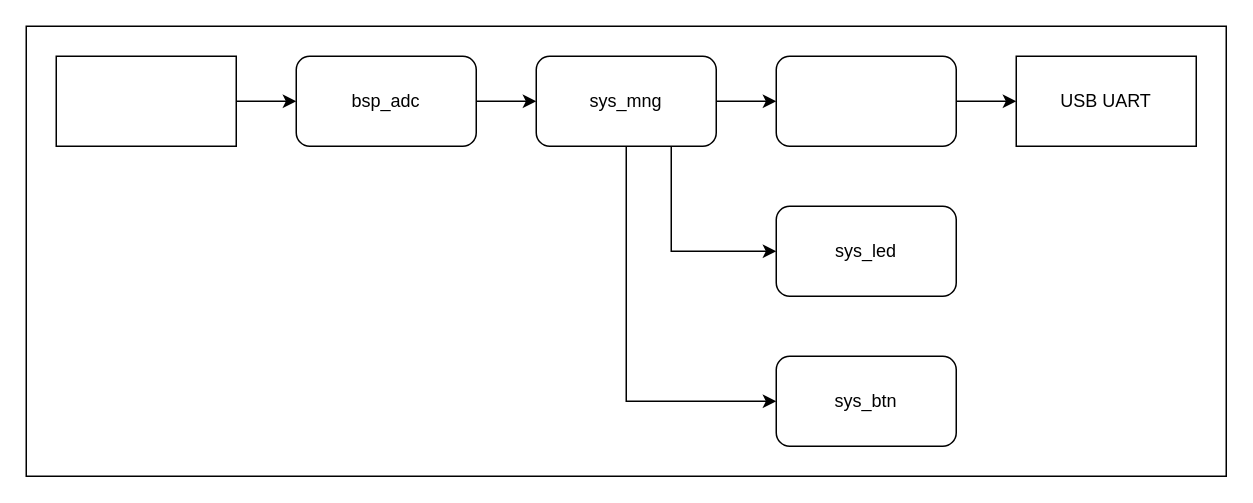
The diagram is 1253 pixels wide and 503 high, and some of its shapes have lost their labels. The shapes that lost their labels are listed below. From the top down, each one's box as (x1, y1, x2, y2) in pixels, then its label:
(55, 55, 236, 146): ECG sensor
(775, 55, 956, 146): sys_uart
